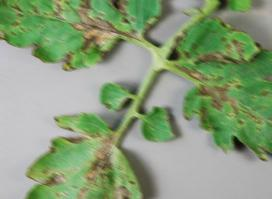Tomato Septoria leaf spot: (173, 16, 272, 185), (1, 0, 164, 77), (15, 108, 146, 199)
